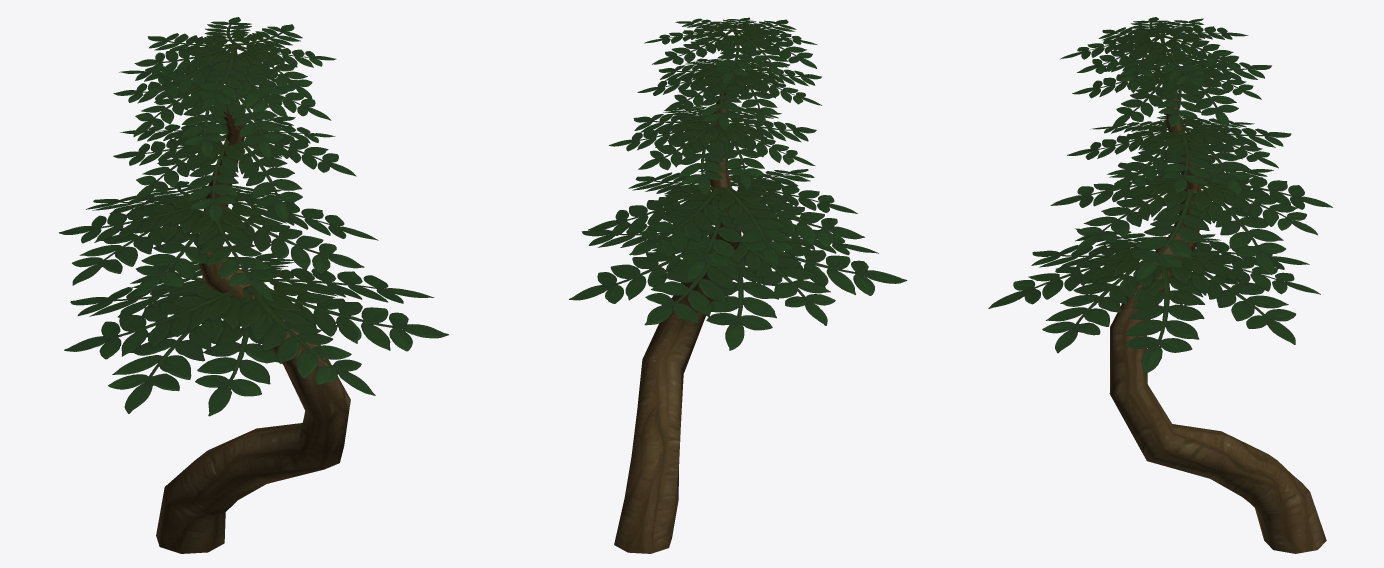
File: Tree_01.fbx
3 views of the same model, side by side, from view 1: azimuth 30°, elevation 25°; view 2: azimuth 150°, elevation 25°; view 3: azimuth 270°, elevation 25° (orthographic). The views are drawn at different scales.
Visible parts, largest first — view 1: Leaves_01, Trunk_01; view 2: Leaves_01, Trunk_01; view 3: Leaves_01, Trunk_01.
Boxes of the visible parts, x1,y1,x2,y2 form: Leaves_01: (59, 17, 448, 416); Trunk_01: (156, 104, 350, 553); Leaves_01: (569, 17, 907, 350); Trunk_01: (614, 72, 741, 553); Leaves_01: (988, 17, 1332, 374); Trunk_01: (1109, 70, 1326, 553).
Bounding box in the file's own units: 8.48 × 12.16 × 9.4.
2 materials, 2 textured.
